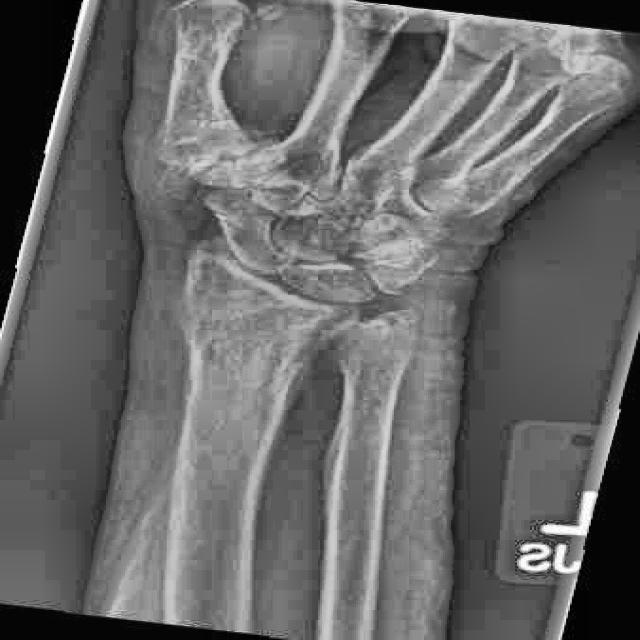wrist positive: (282, 263, 393, 312)
